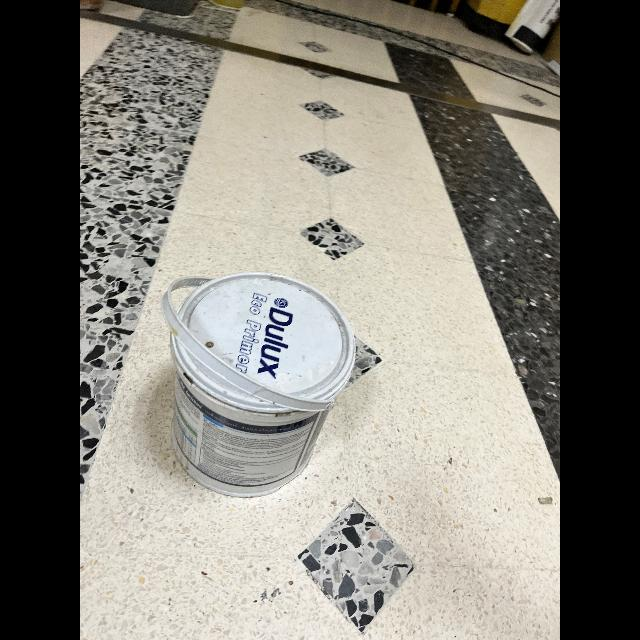paint_bucket: (142, 255, 356, 503)
